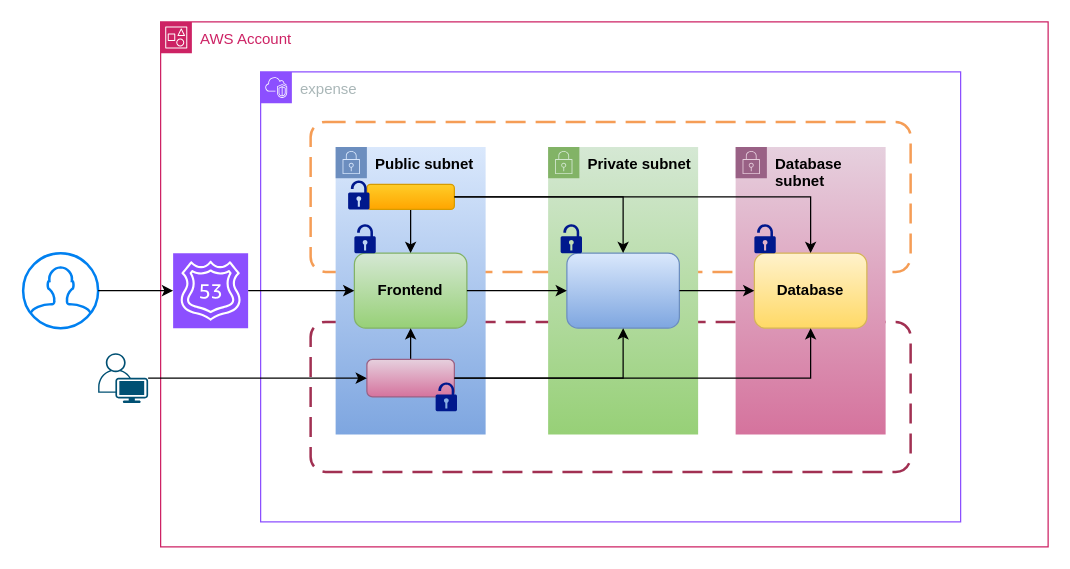
This 1070x569 diagram has some shape labels left out. The centre of each missing label's shape, as x and y in pixels:
"Ansible" belongs at (x=410, y=196).
"Backend" belongs at (x=622, y=290).
"Bastion" belongs at (x=410, y=377).
